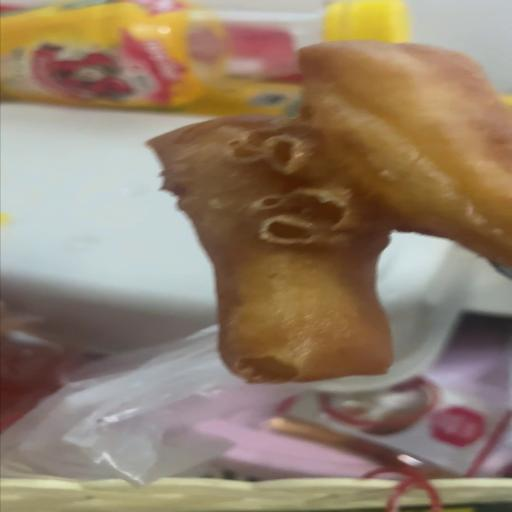street_burnt_defect: (148, 41, 512, 383)
